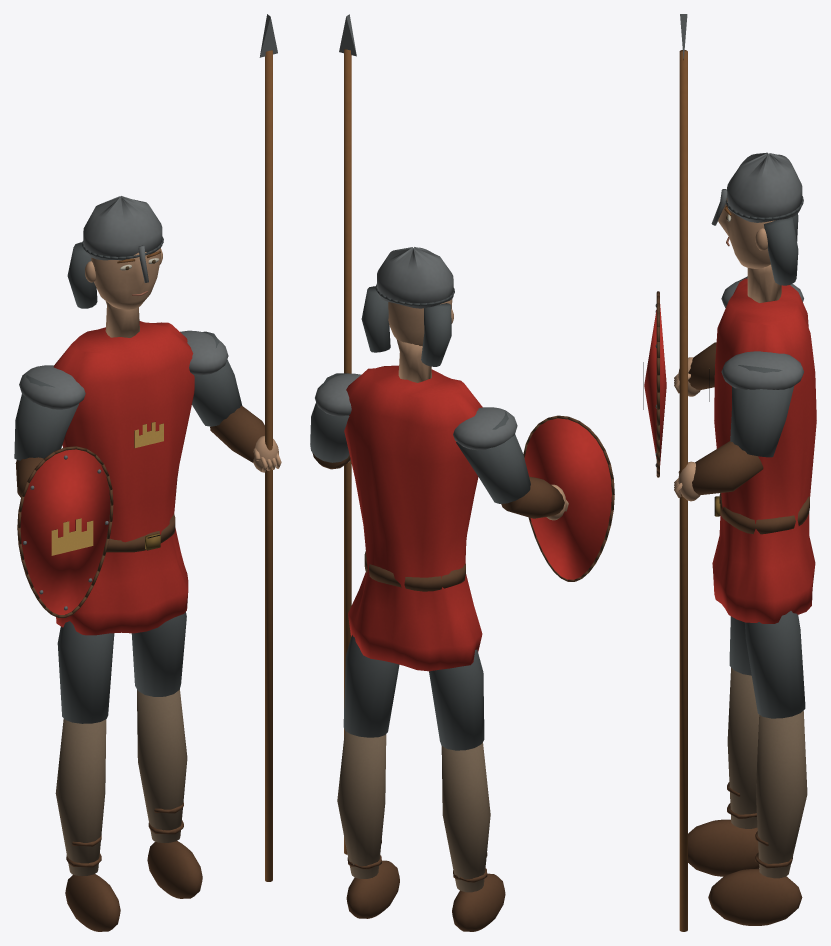
The model's file is SM_LanceroNatural_A_LOD0.fbx.
3 renders of one model, left to right at view 1: azimuth 30°, elevation 25°; view 2: azimuth 150°, elevation 25°; view 3: azimuth 270°, elevation 25°, orthographic. The views are drawn at different scales.
Visible parts, largest first — view 1: SM_LanceroNatural_A_LOD0; view 2: SM_LanceroNatural_A_LOD0; view 3: SM_LanceroNatural_A_LOD0.
Boxes of the visible parts, box(x1,y1,x2,y2) form: SM_LanceroNatural_A_LOD0: box(14, 14, 281, 931); SM_LanceroNatural_A_LOD0: box(310, 14, 614, 931); SM_LanceroNatural_A_LOD0: box(643, 14, 816, 931).
Size of the model in its own units: 0.1805 by 0.552 by 0.0922.
Materials: 1 (1 with a texture image).
